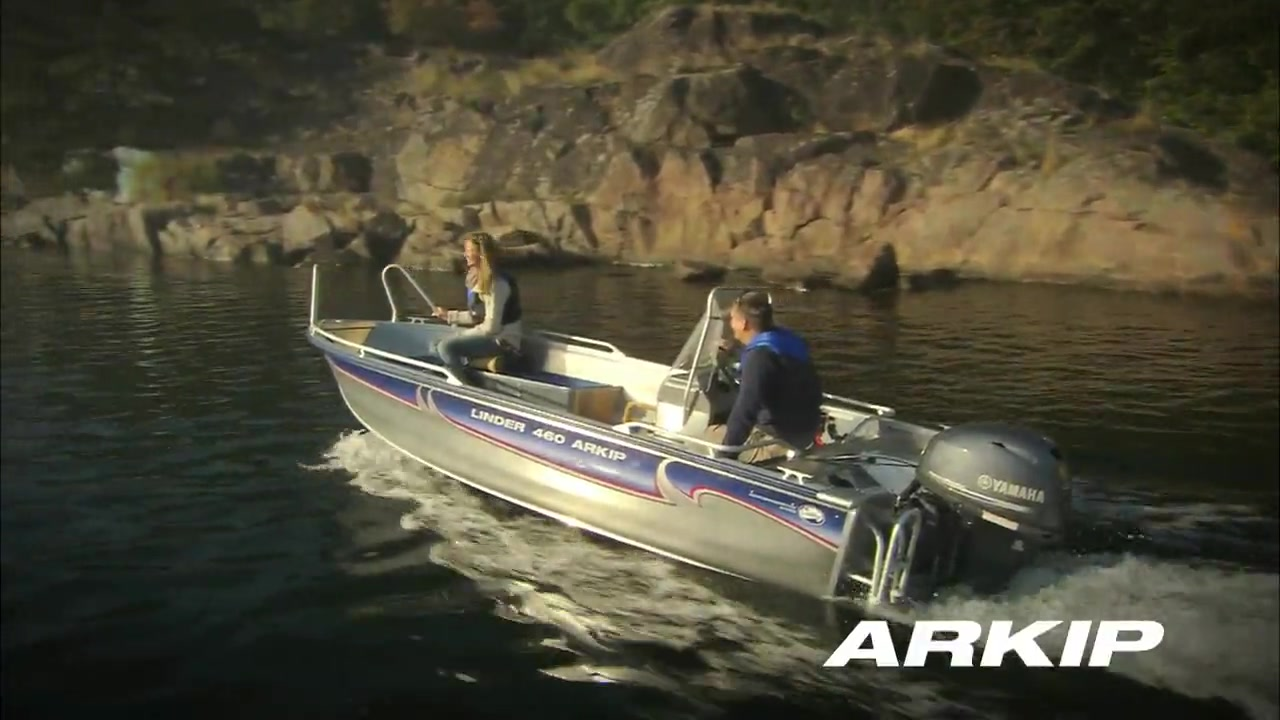boat: (301, 261, 1075, 615)
